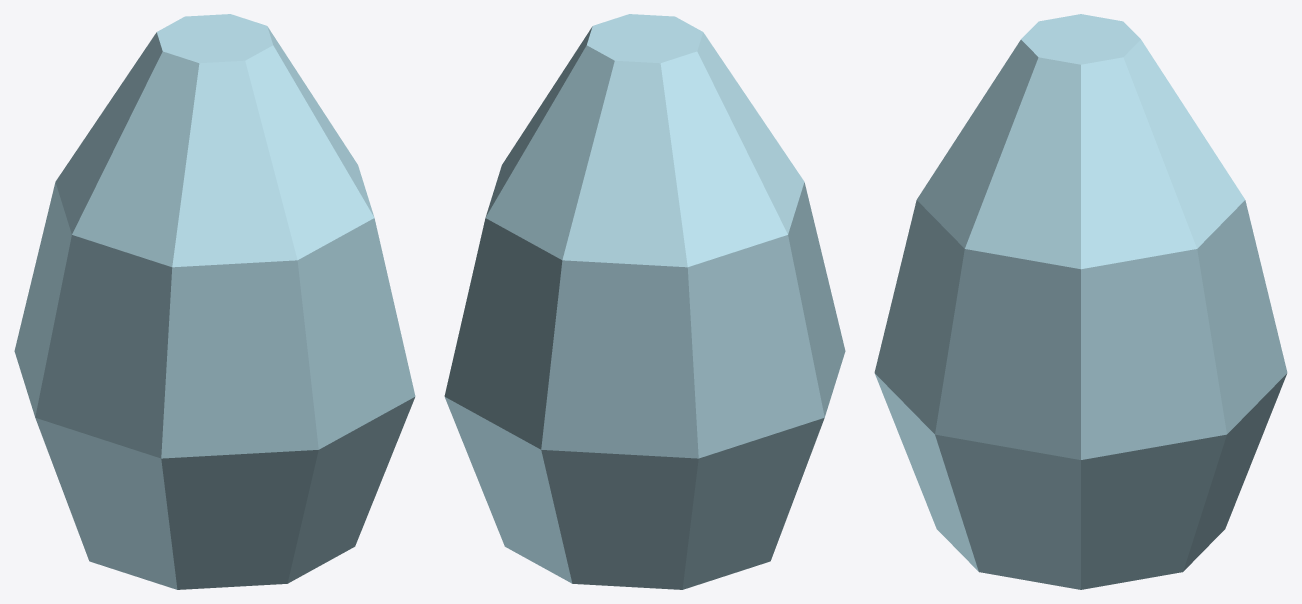
File: egg-blue.glb
The picture shows the model from 3 angles, left to right: view 1: azimuth 30°, elevation 25°; view 2: azimuth 150°, elevation 25°; view 3: azimuth 270°, elevation 25°; orthographic projection.
Visible parts, largest first — view 1: stone_smallH; view 2: stone_smallH; view 3: stone_smallH.
Part boxes in pixels (x1,y1,x2,y2): stone_smallH: (14, 14, 415, 589); stone_smallH: (444, 14, 845, 589); stone_smallH: (874, 14, 1287, 589).
Bounding box in the file's own units: 0.8721 × 1.14 × 0.8721.
